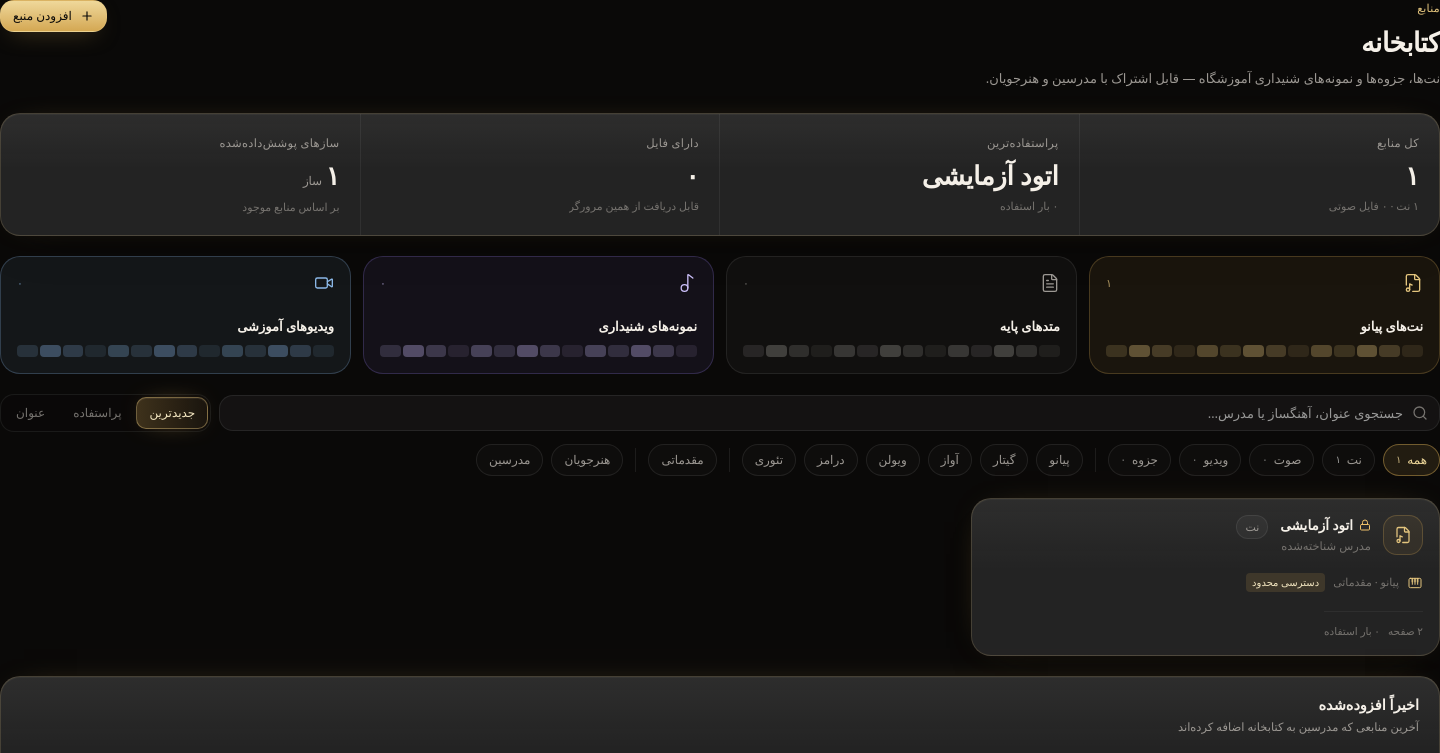
Test: library names outside the loaded page (I16) › still shows a resolved name normally
The image size is (1440, 753).
Check: the text "مدرس شناخته‌شده" is shown, box [1280,537,1371,554]
What coordinates should you click on to do the following:
click the button "اتود آزمایشی"
I would click on:
 (1403, 535)
Its box is [971,498,1439,656].
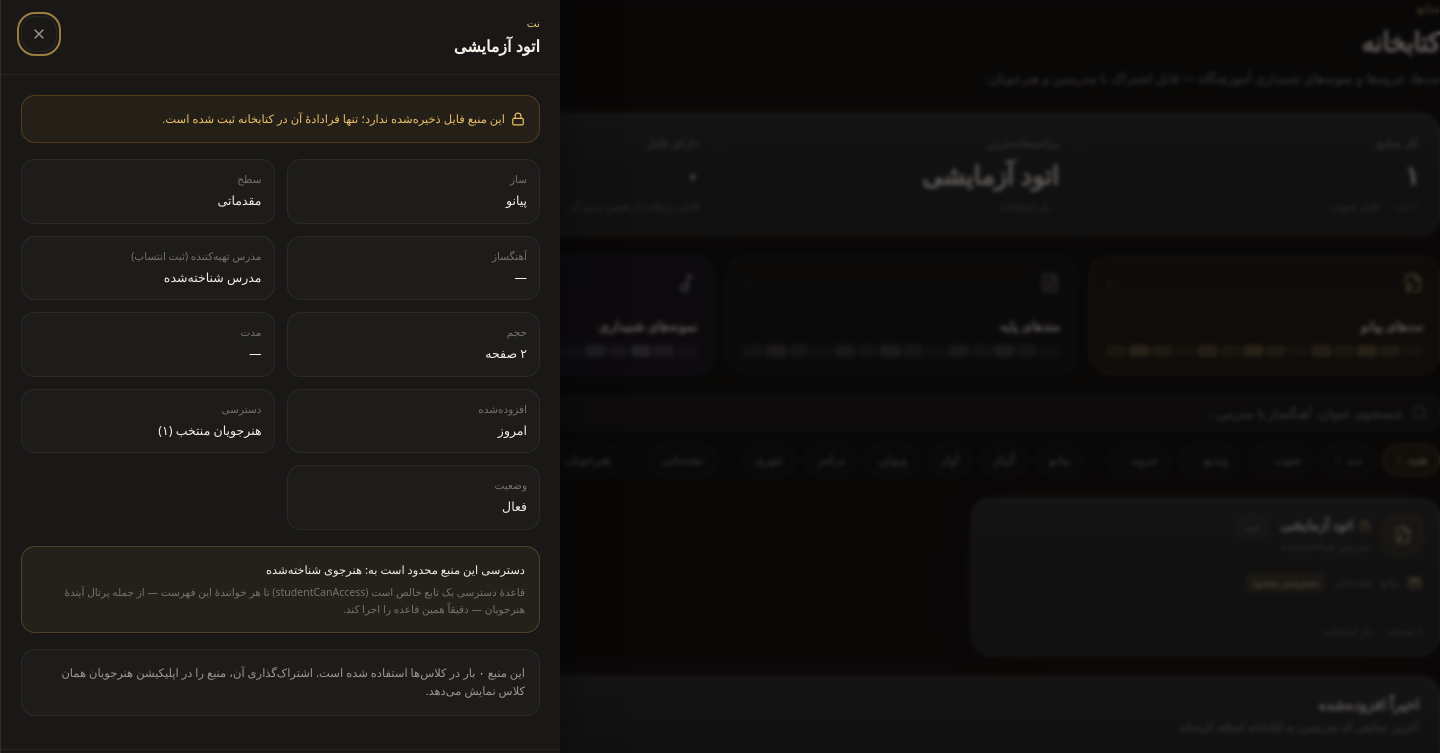
Check: the text "هنرجوی شناخته‌شده" is shown, box [266,562,362,577]
